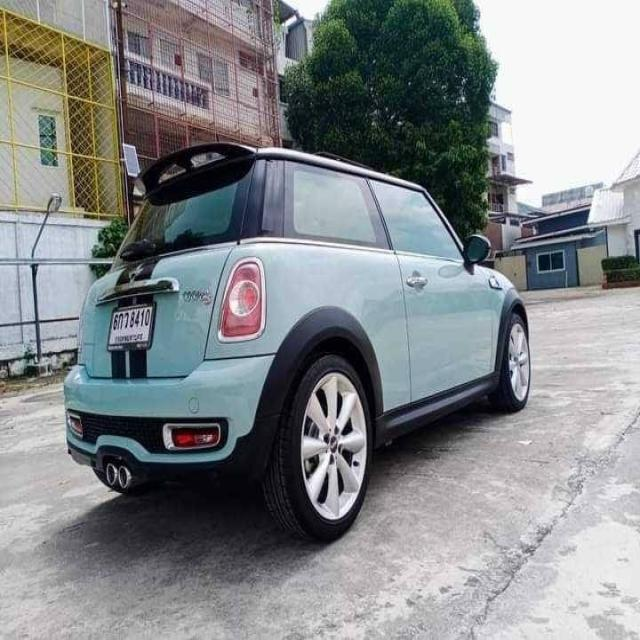license_plate: (106, 302, 156, 350)
